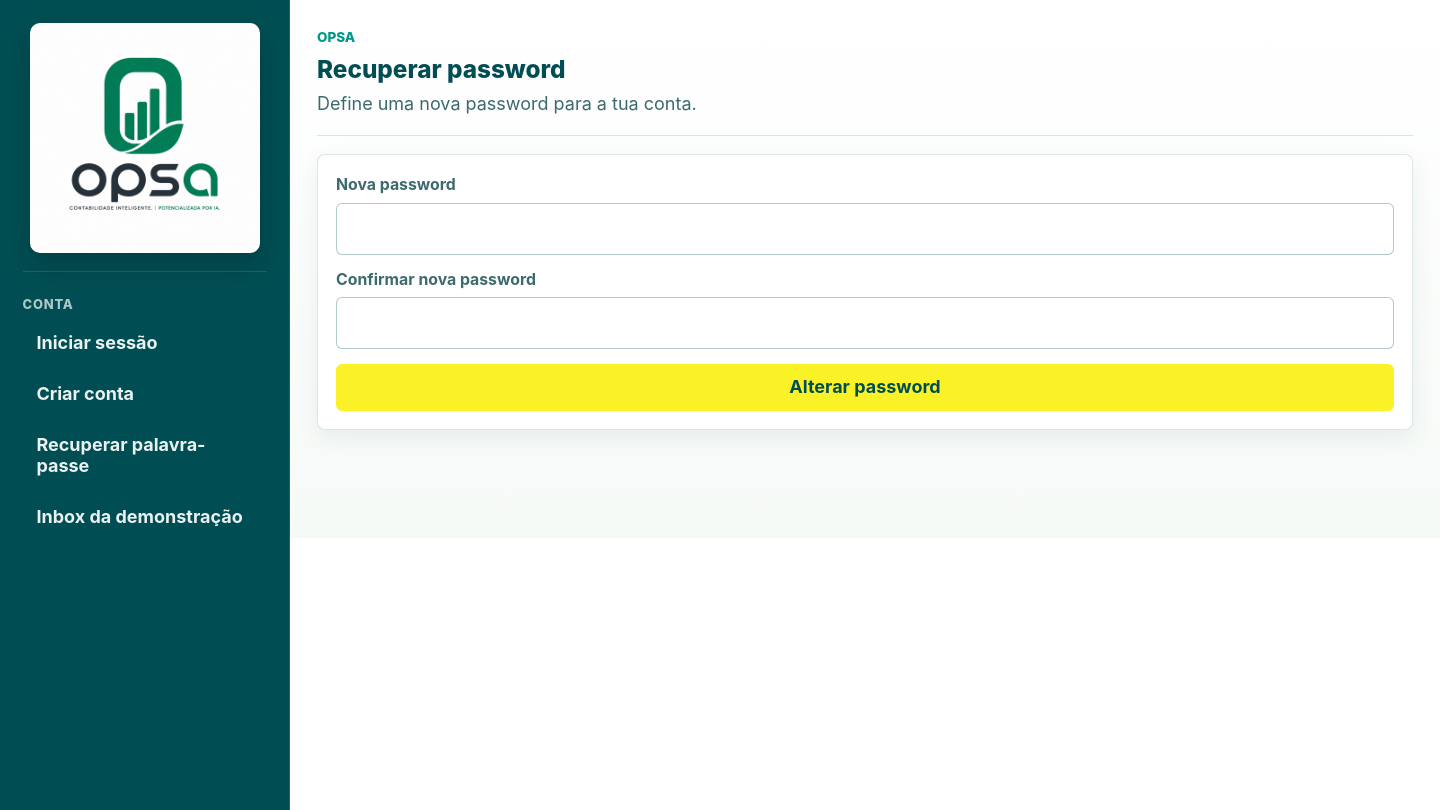
Test: App com transporte MSW › repõe a password com token do fragmento sem criar um campo de token
This screenshot has width=1440, height=810.
Type "password-segura" into the password field labelled "Nova password".
click(865, 229); type("password-segura")  # box [336,203,1394,255]
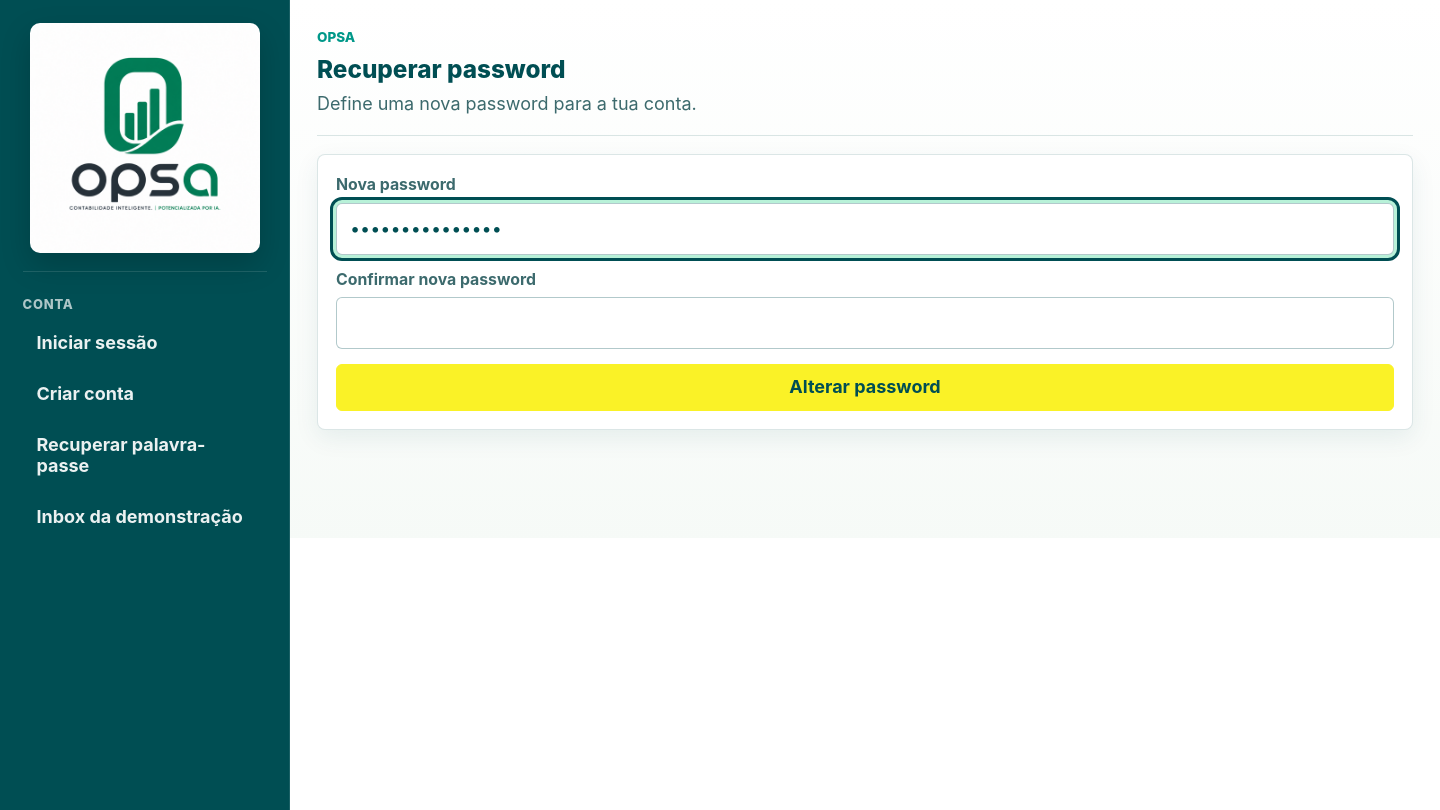
Type "password-segura" into the password field labelled "Confirmar nova password".
click(865, 323); type("password-segura")  # box [336,297,1394,350]
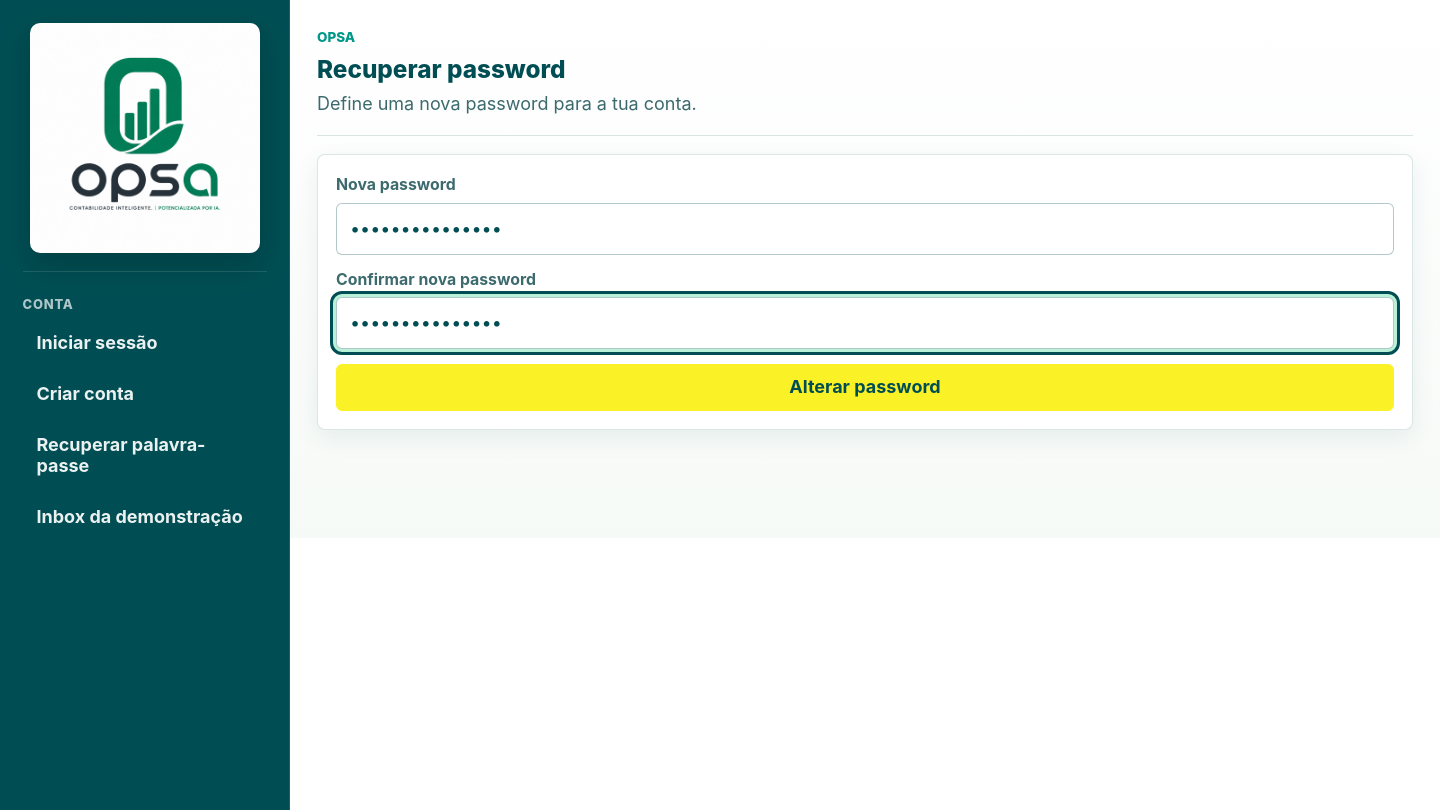
Click the button "Alterar password".
click(865, 387)  # box [336,364,1394,411]
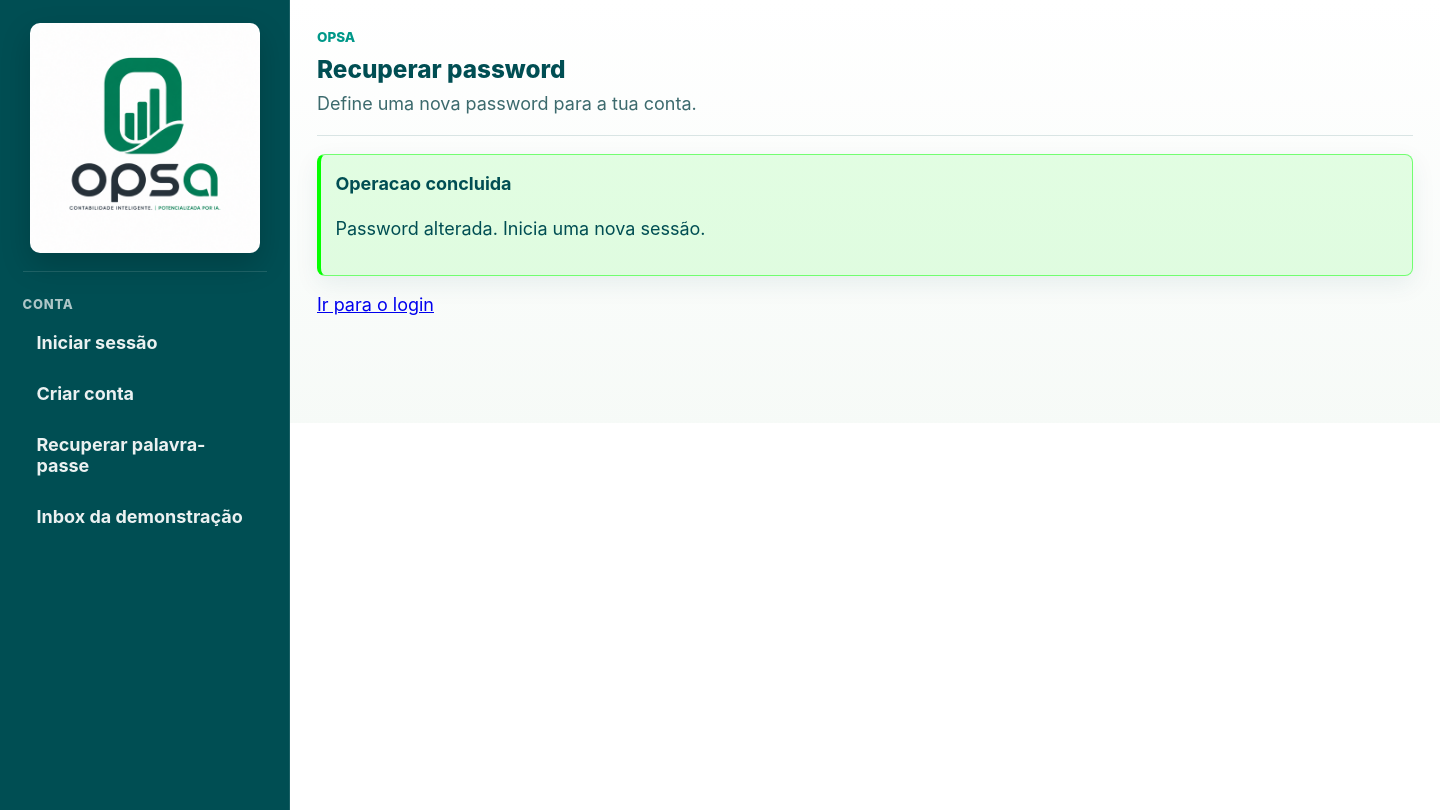
Result: the text "Password alterada. Inicia uma nova sessão." is shown at [335,218,706,239]
